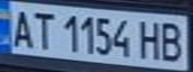1: (57, 11, 81, 53), (78, 12, 96, 54)
4: (112, 16, 136, 58)
5: (93, 14, 115, 56)
A: (6, 6, 36, 49)
B: (157, 19, 190, 62)
H: (136, 17, 166, 61)
T: (30, 7, 57, 51)
